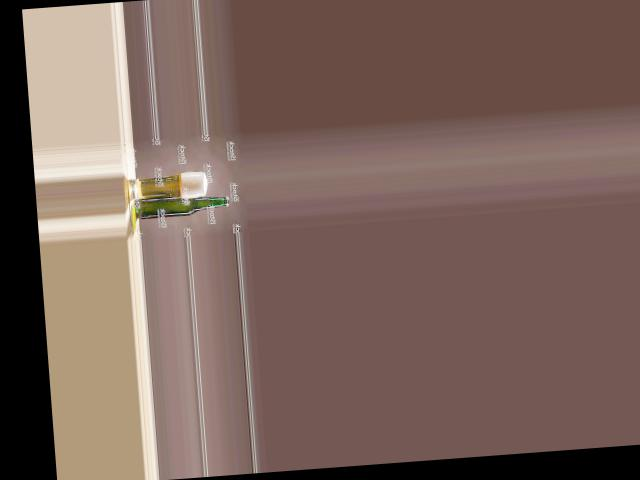beer: (134, 191, 229, 219)
